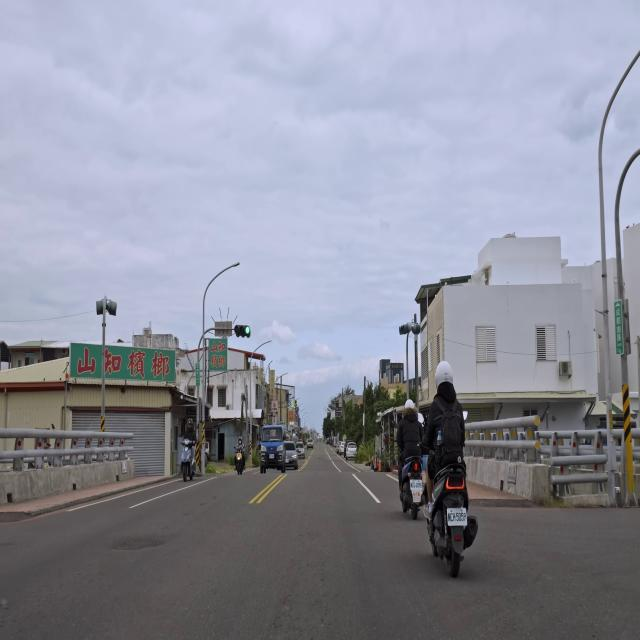green light: (234, 324, 251, 339)
